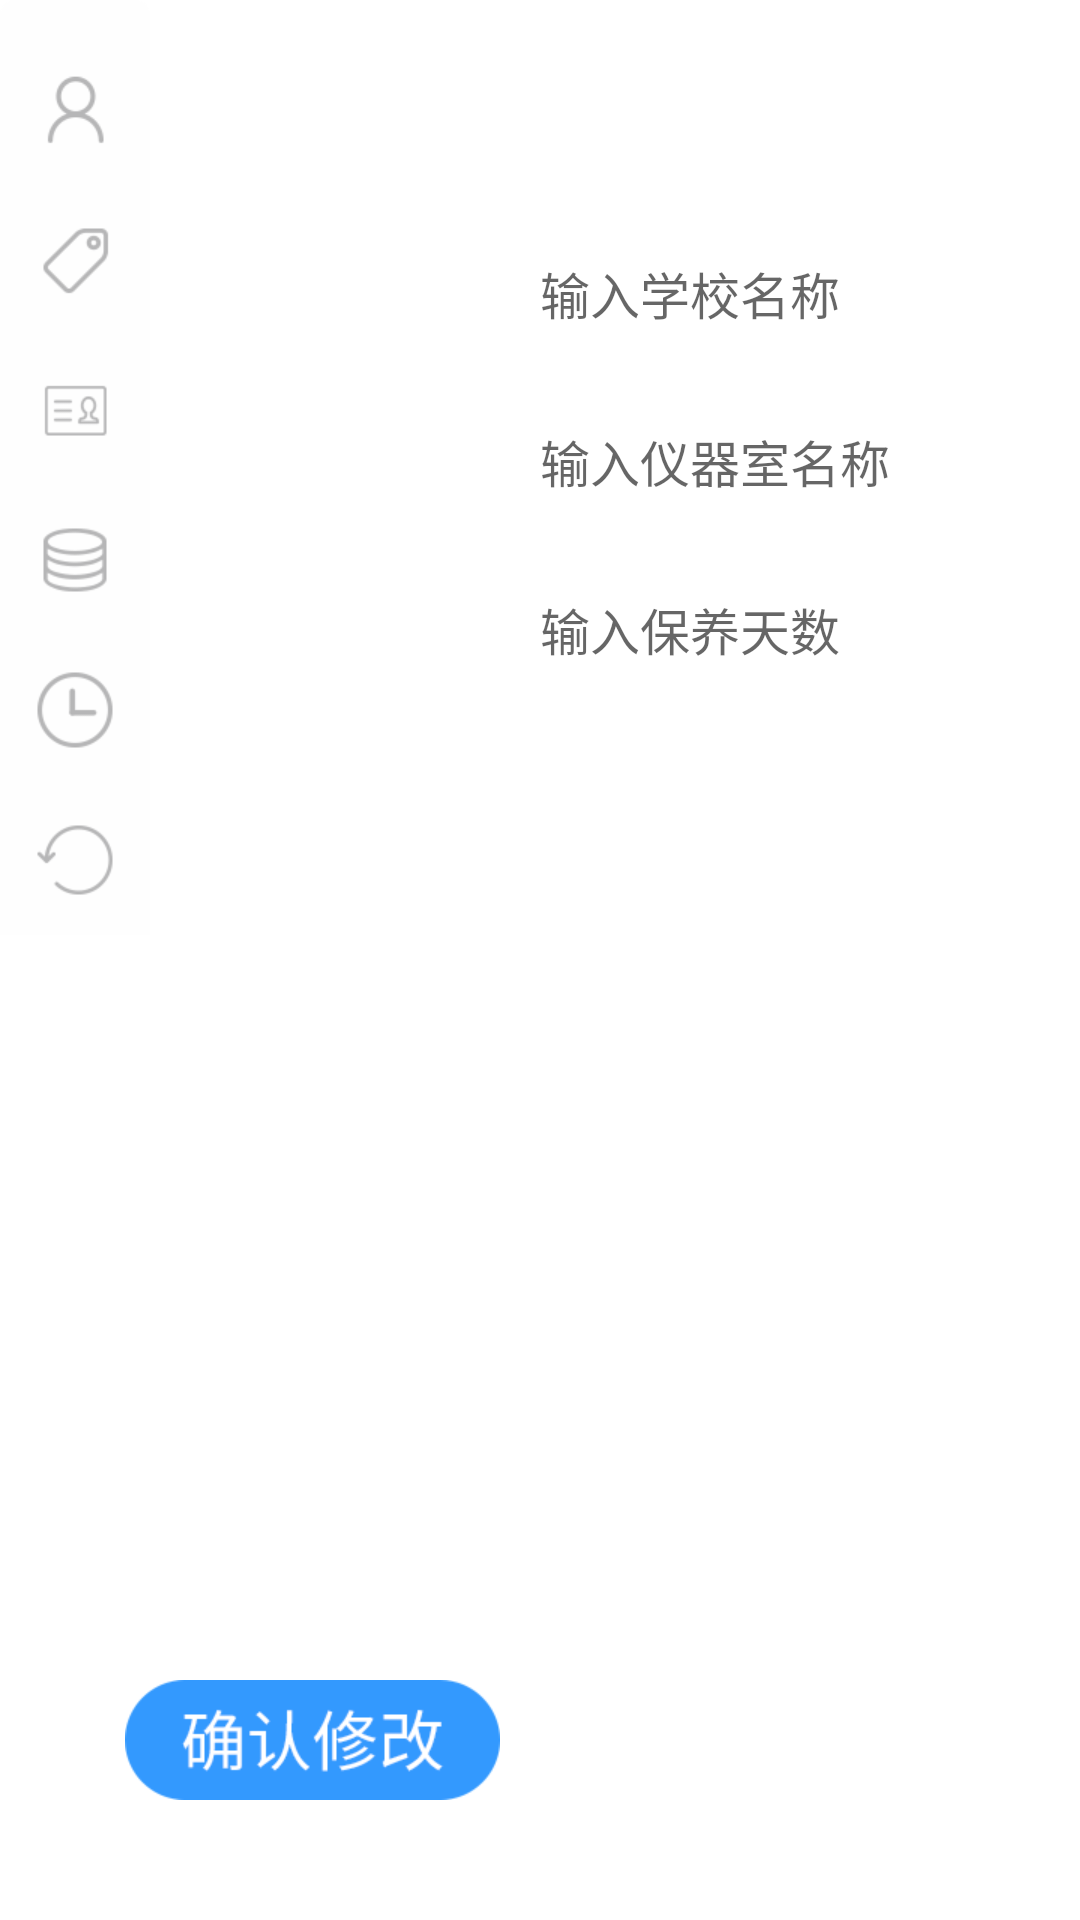

Named icons in this screenshot (1080×1920) and their centers, (x=x, y=y):
settings tab id: (x=76, y=411)
settings tab info: (x=76, y=109)
settings tab reset: (x=75, y=860)
settings tab stock: (x=75, y=560)
settings tab tag: (x=75, y=260)
settings tab time: (x=75, y=710)
